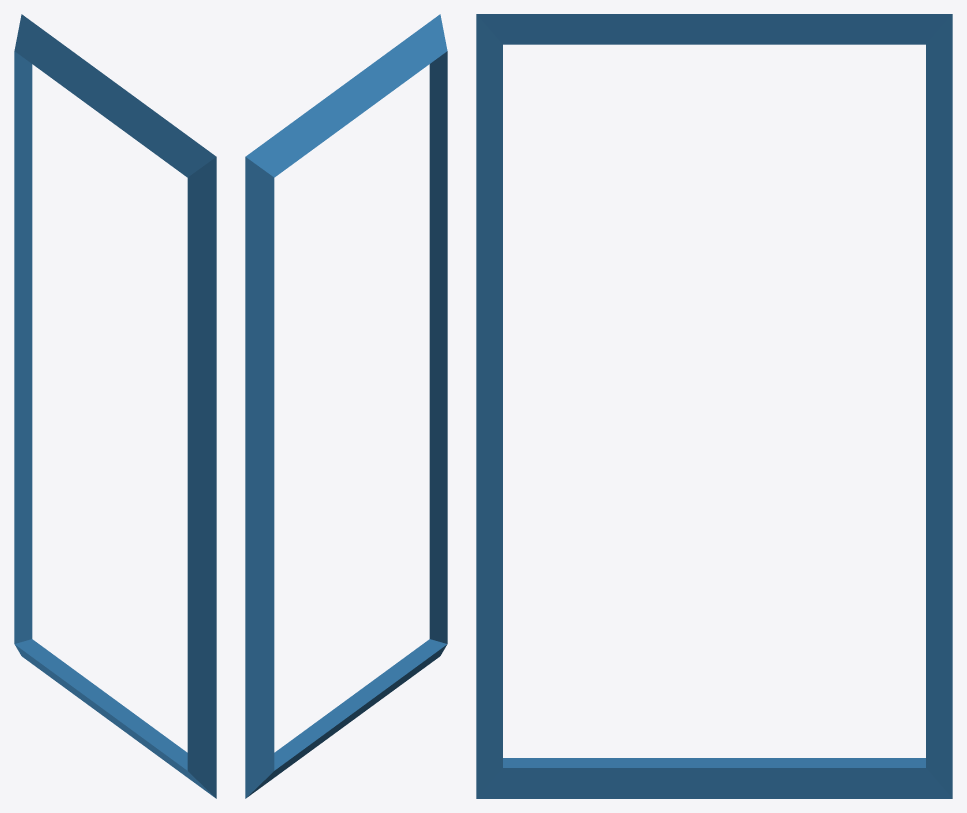
File: corniceazzurra.glb
3 views of the same model, side by side, from view 1: azimuth 30°, elevation 25°; view 2: azimuth 150°, elevation 25°; view 3: azimuth 270°, elevation 25° (orthographic). The views are drawn at different scales.
Parts seen in each view (by area): view 1: Cube.001; view 2: Cube.001; view 3: Cube.001.
Boxes of the visible parts, x1,y1,x2,y2 form: Cube.001: (14,14,216,798); Cube.001: (245,14,447,798); Cube.001: (476,14,952,798).
Size of the model in its own units: 0.2576 by 8.74 by 4.81.
